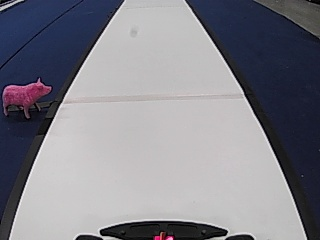pig: (1, 75, 51, 119)
